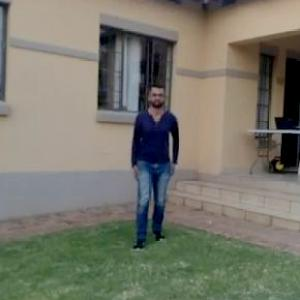follow: (130, 73, 184, 255)
